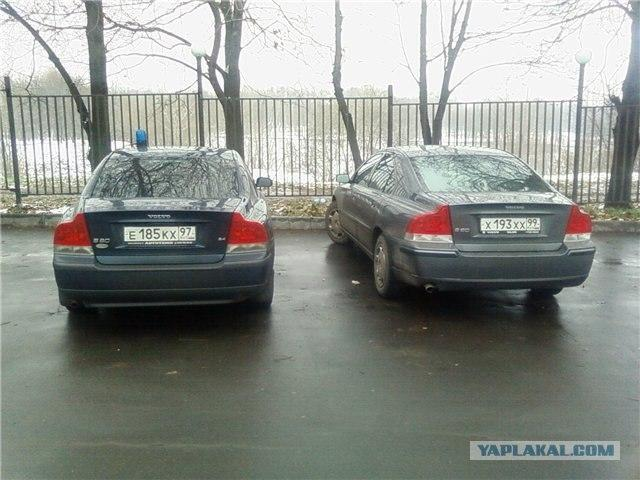license-plateSW: (123, 227, 195, 241), (480, 217, 541, 231)
